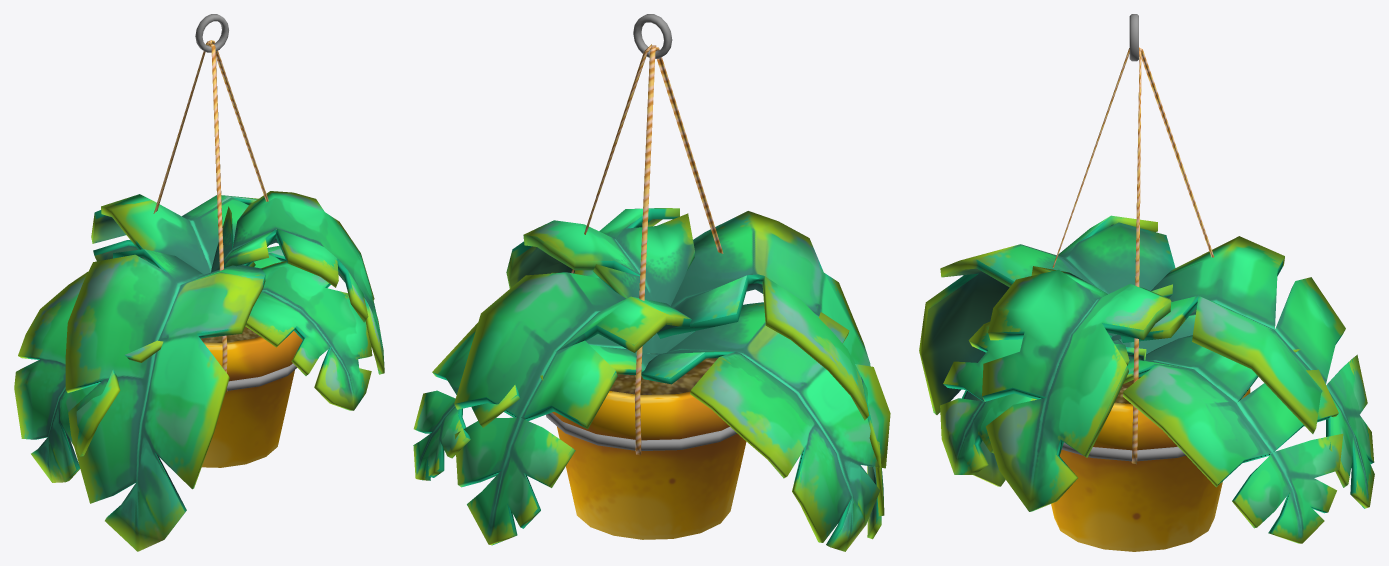
Rendered from hanging-plant.gltf.
3 renders of one model, left to right at view 1: azimuth 30°, elevation 25°; view 2: azimuth 150°, elevation 25°; view 3: azimuth 270°, elevation 25°, orthographic. The views are drawn at different scales.
Visible parts, largest first — view 1: Planter.001, Planter; view 2: Planter, Planter.001; view 3: Planter.001, Planter.
Boxes of the visible parts, x1=… form: Planter.001: x1=65, y1=191, x2=384, y2=551; Planter: x1=14, y1=14, x2=372, y2=482; Planter: x1=413, y1=14, x2=890, y2=551; Planter.001: x1=454, y1=208, x2=884, y2=545; Planter.001: x1=919, y1=215, x2=1374, y2=511; Planter: x1=940, y1=14, x2=1343, y2=551.
Size of the model in its own units: 0.312 by 0.4239 by 0.3201.
Materials: 2 (2 with a texture image).
